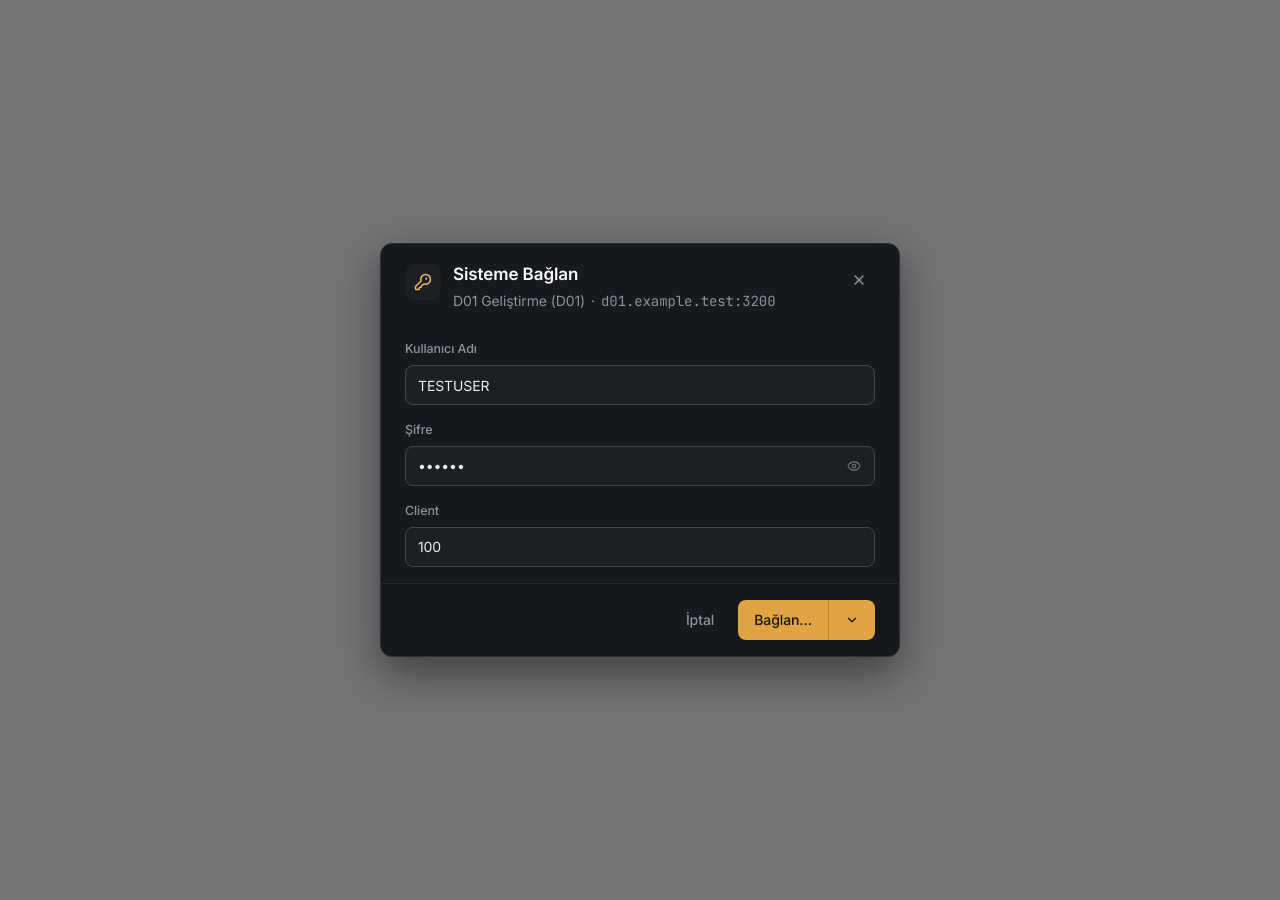
Test: CredentialsModal › her seferinde sor: Bağlan… göndermiyor, menüyü açıyor; Escape yalnız menüyü kapatıyor
The width and height of the screenshot is (1280, 900).
Expected: the field labelled "Kullanıcı Adı" holds "TESTUSER", [405,365,875,405]
Click the button "Bağlan…" at (783, 620), box [738,600,828,640]
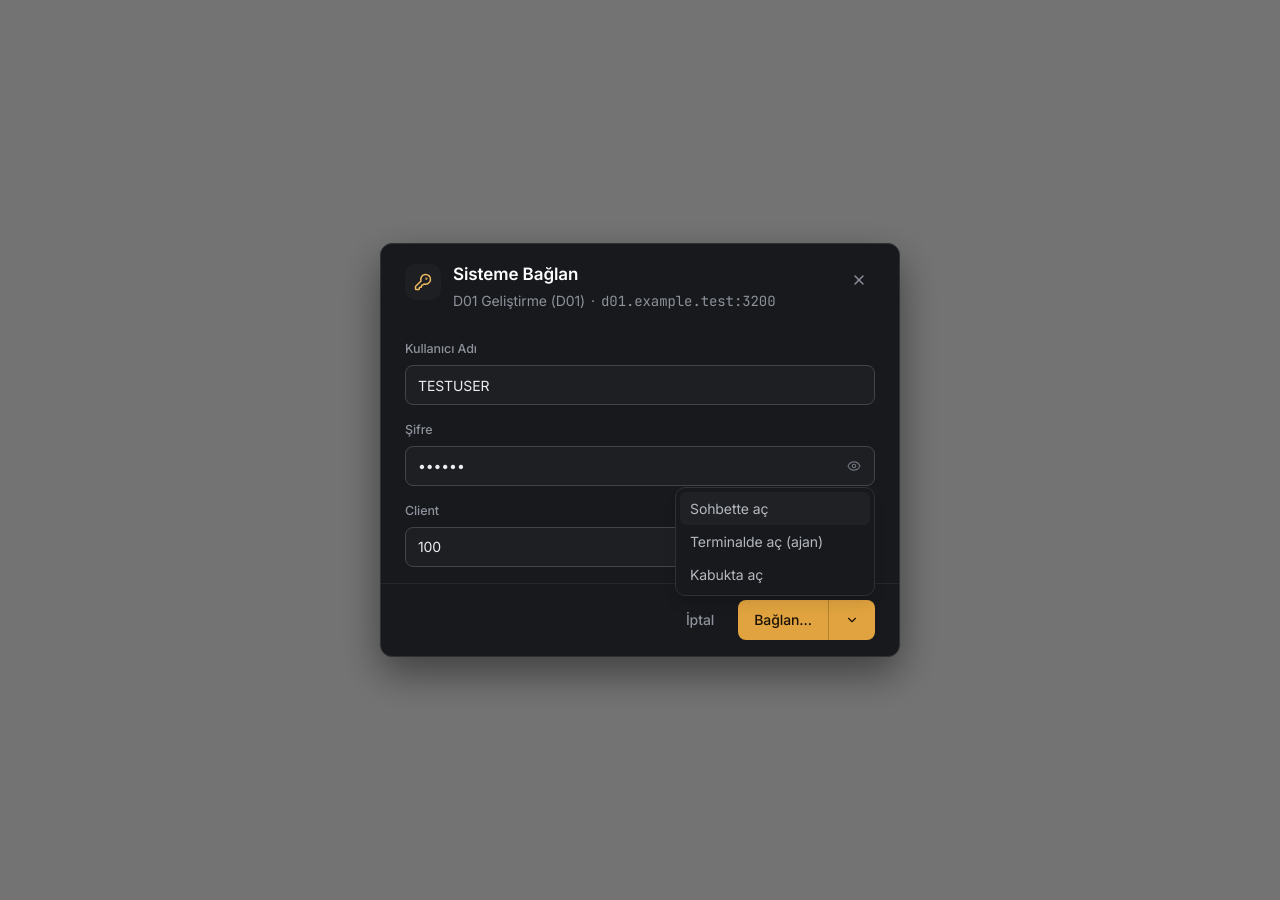
Press ArrowDown in the menu, box [675,487,875,596]
Press Escape in the menu, box [675,487,875,596]
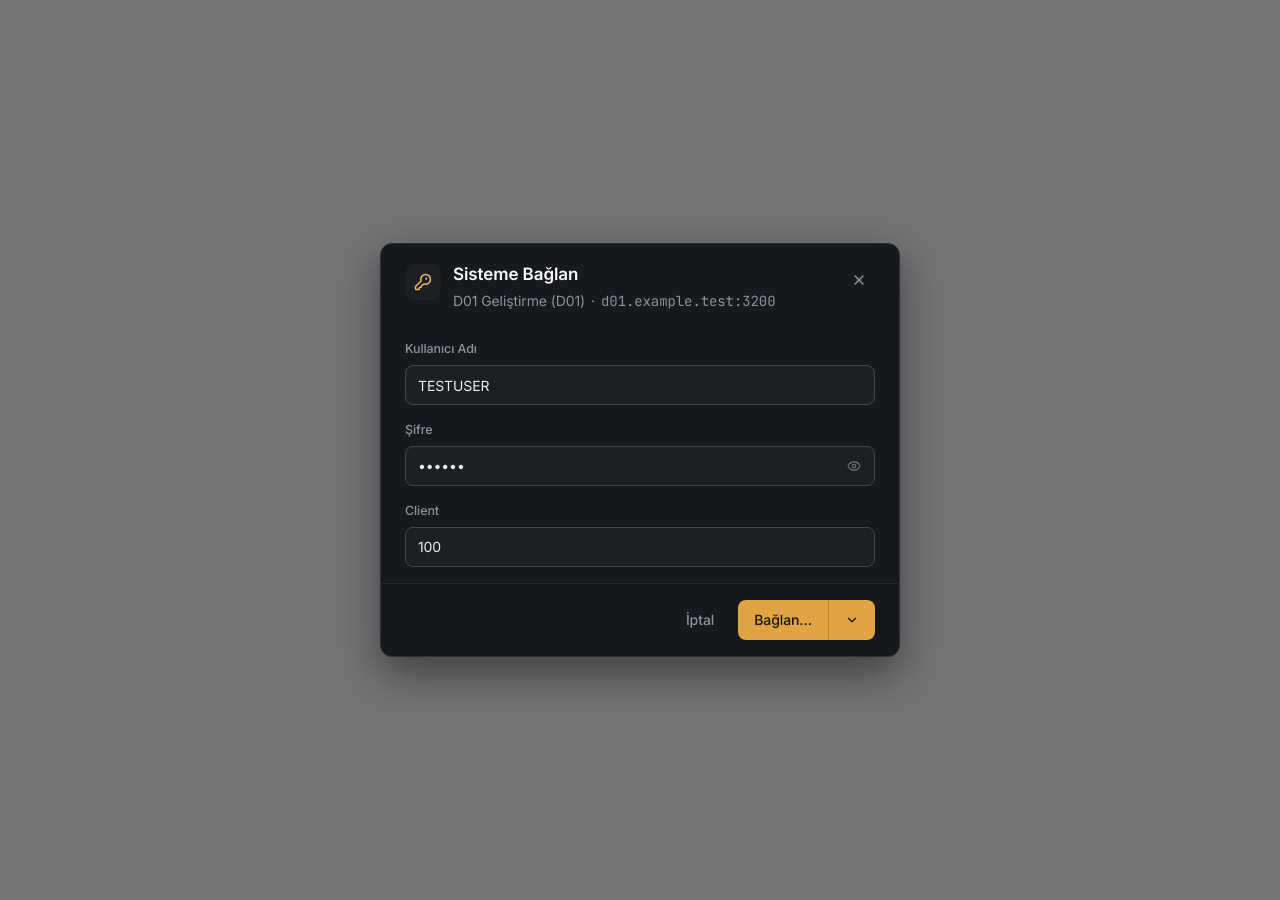
Expected: the menu is gone
